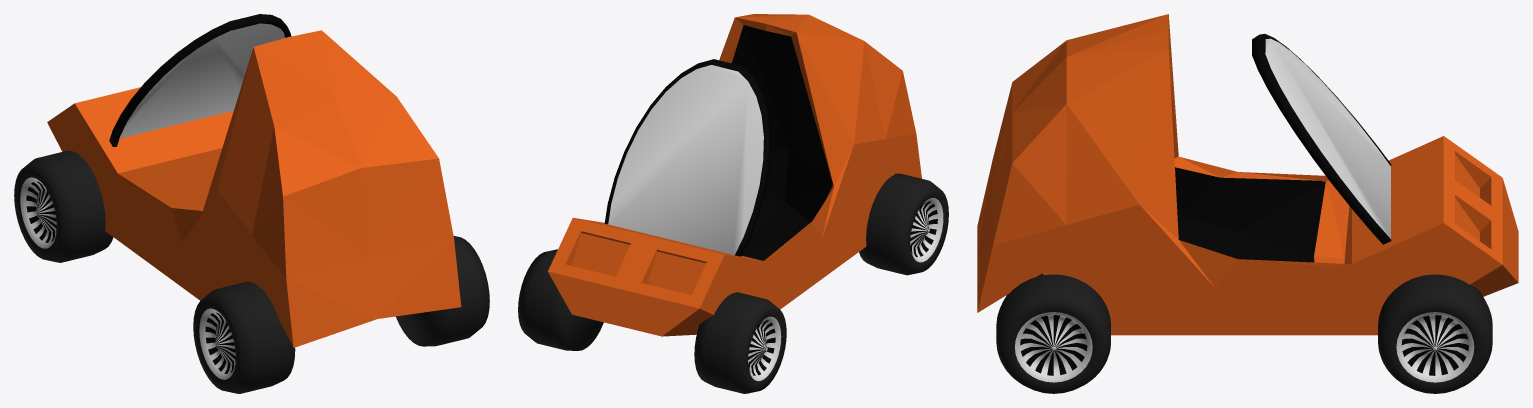
Rendered from coche.fbx.
The picture shows the model from 3 angles, left to right: view 1: azimuth 30°, elevation 25°; view 2: azimuth 150°, elevation 25°; view 3: azimuth 270°, elevation 25°; orthographic projection. The views are drawn at different scales.
Visible parts, largest first — view 1: Cube, Cristal.001, rueda trasera izquiera.002, rueda delantera izquierda.003, rueda trasera derecha.002; view 2: Cube, Cristal.001, rueda delantera izquierda.003, rueda trasera izquiera.002, rueda delantera derecha.002; view 3: Cube, Cristal.001, rueda delantera derecha.002, rueda trasera derecha.002.
Boxes of the visible parts, x1,y1,x2,y2 form: Cube: (47,30,461,347); Cristal.001: (109,14,291,147); rueda trasera izquiera.002: (193,281,295,393); rueda delantera izquierda.003: (14,150,113,262); rueda trasera derecha.002: (395,236,489,346); Cube: (548,14,921,336); Cristal.001: (604,59,771,256); rueda delantera izquierda.003: (694,292,786,393); rueda trasera izquiera.002: (859,173,948,275); rueda delantera derecha.002: (518,249,603,350); Cube: (977,14,1518,335); Cristal.001: (1252,34,1391,244); rueda delantera derecha.002: (1378,274,1492,393); rueda trasera derecha.002: (996,273,1110,393).
Size of the model in its own units: 3.01 by 5.25 by 3.26.
